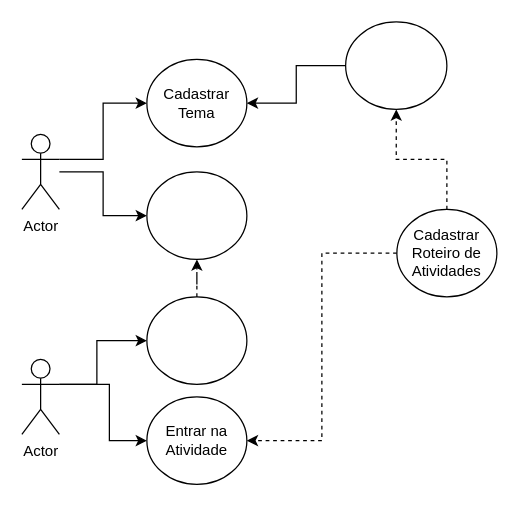
Some shapes in this 519 by 506 pixel diagram are drawn without their labels. Here are the shapes that lost their labels. From the top down, the centre of each, then its label:
the point at 395,65: Cadastrar Perguntas
the point at 196,215: Definir Grupos
the point at 196,340: Cadastrar Dados Pessoais
